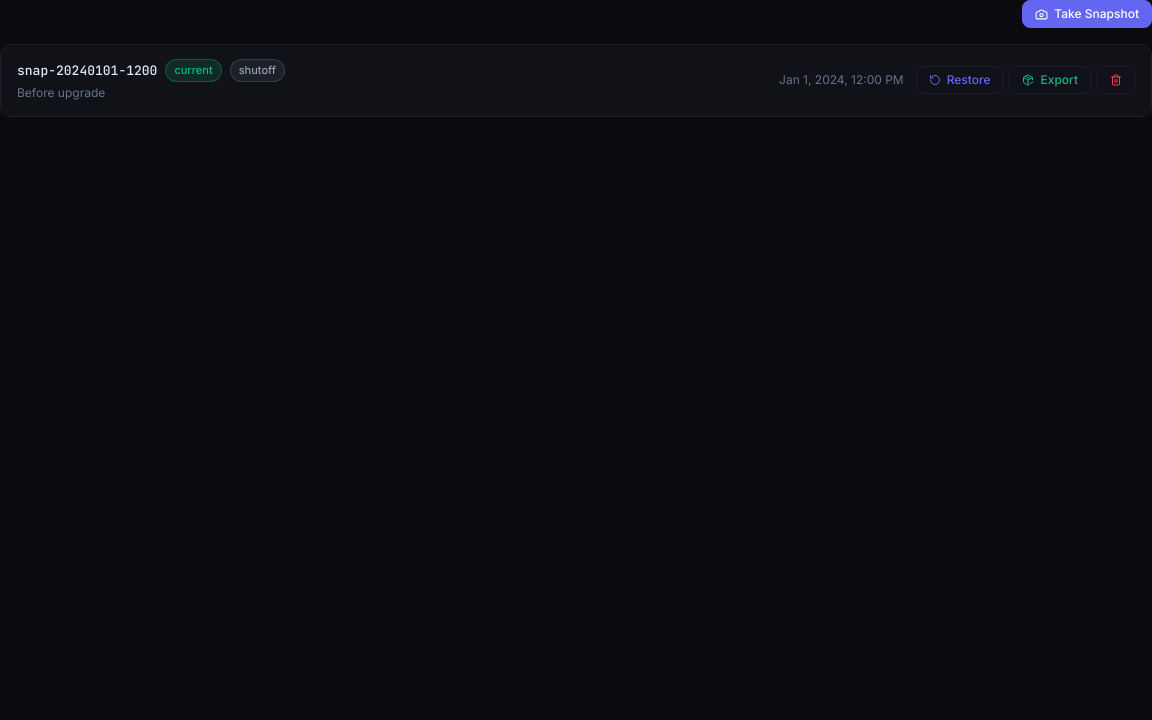
Test: SnapshotList — Export action › clicking Export opens the export modal
Click the button "Export" at (1050, 80), box [1010,66,1091,94]
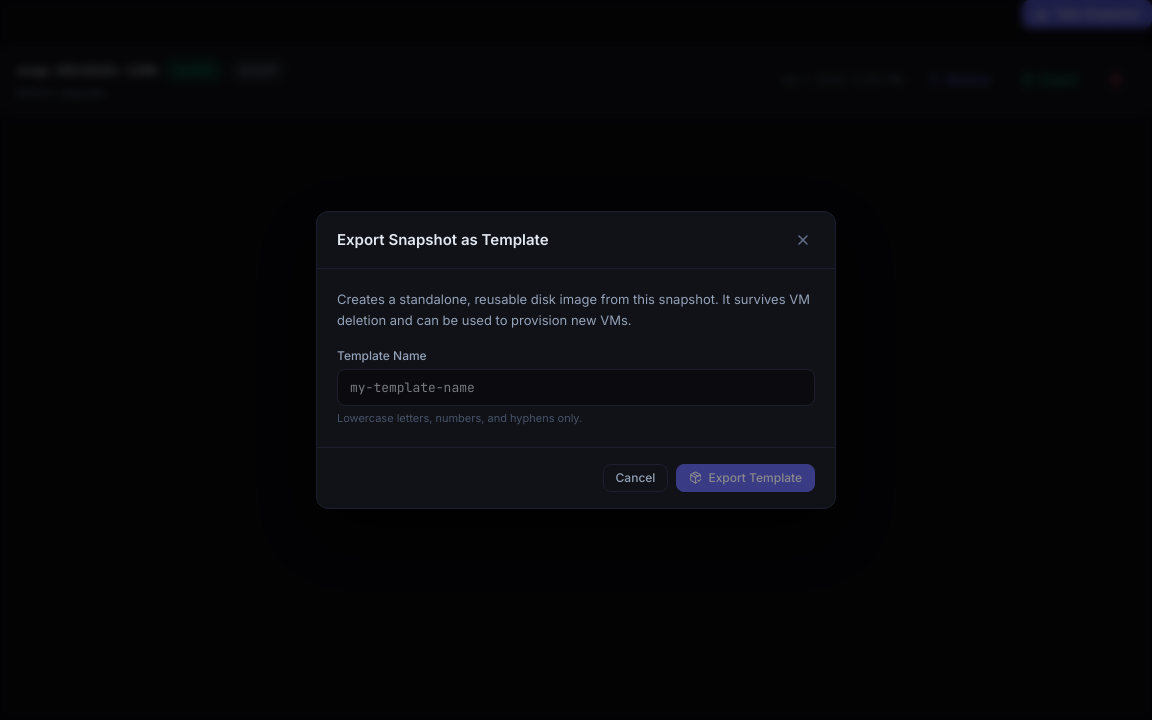
Expected: the heading "Export Snapshot as Template" is shown, [337,229,549,252]
